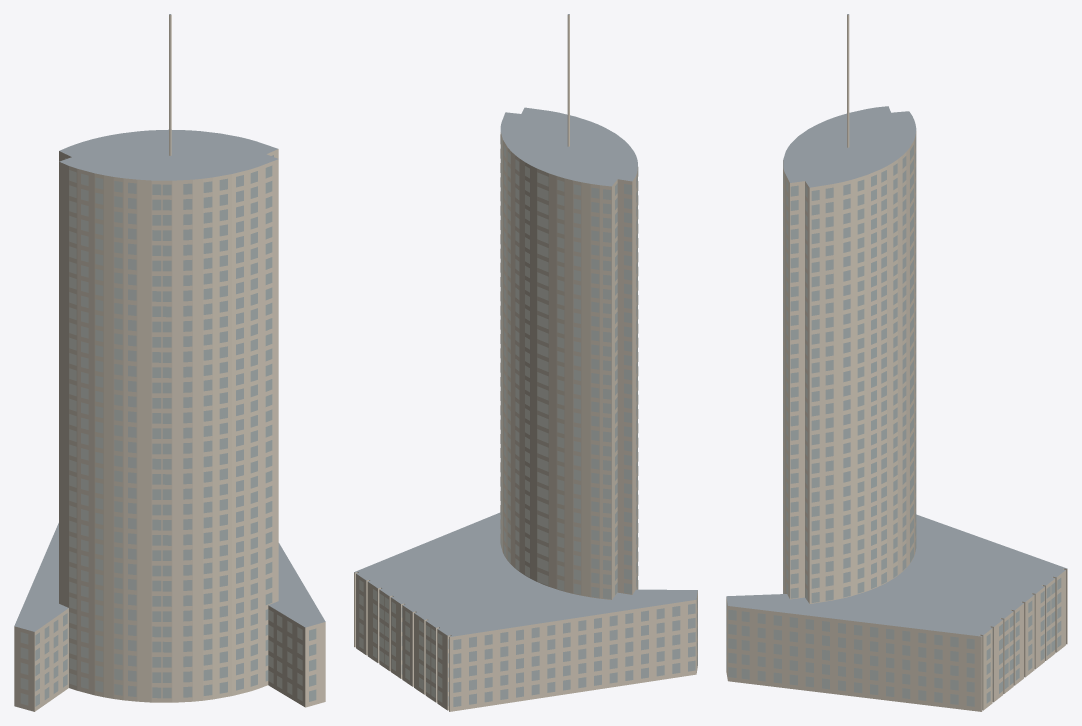
3 views of the same model, side by side, from view 1: azimuth 30°, elevation 25°; view 2: azimuth 150°, elevation 25°; view 3: azimuth 270°, elevation 25° (orthographic). The views are drawn at different scales.
Parts seen in each view (by area): view 1: stone, window, roof; view 2: stone, window, roof; view 3: stone, window, roof.
Boxes of the visible parts, left/top/right/bottom form: stone: left=14, top=14, right=325, bottom=711; window: left=20, top=155, right=316, bottom=706; roof: left=14, top=14, right=325, bottom=631; stone: left=354, top=14, right=697, bottom=711; window: left=359, top=134, right=697, bottom=706; roof: left=354, top=14, right=697, bottom=636; stone: left=726, top=15, right=1067, bottom=711; window: left=726, top=137, right=1061, bottom=706; roof: left=726, top=14, right=1067, bottom=636.
Size of the model in its own units: 83.73 by 174 by 86.18.
